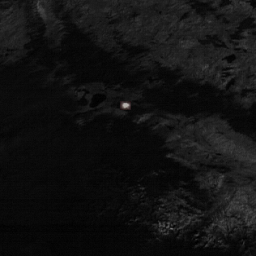Target: (121, 102, 131, 111)
